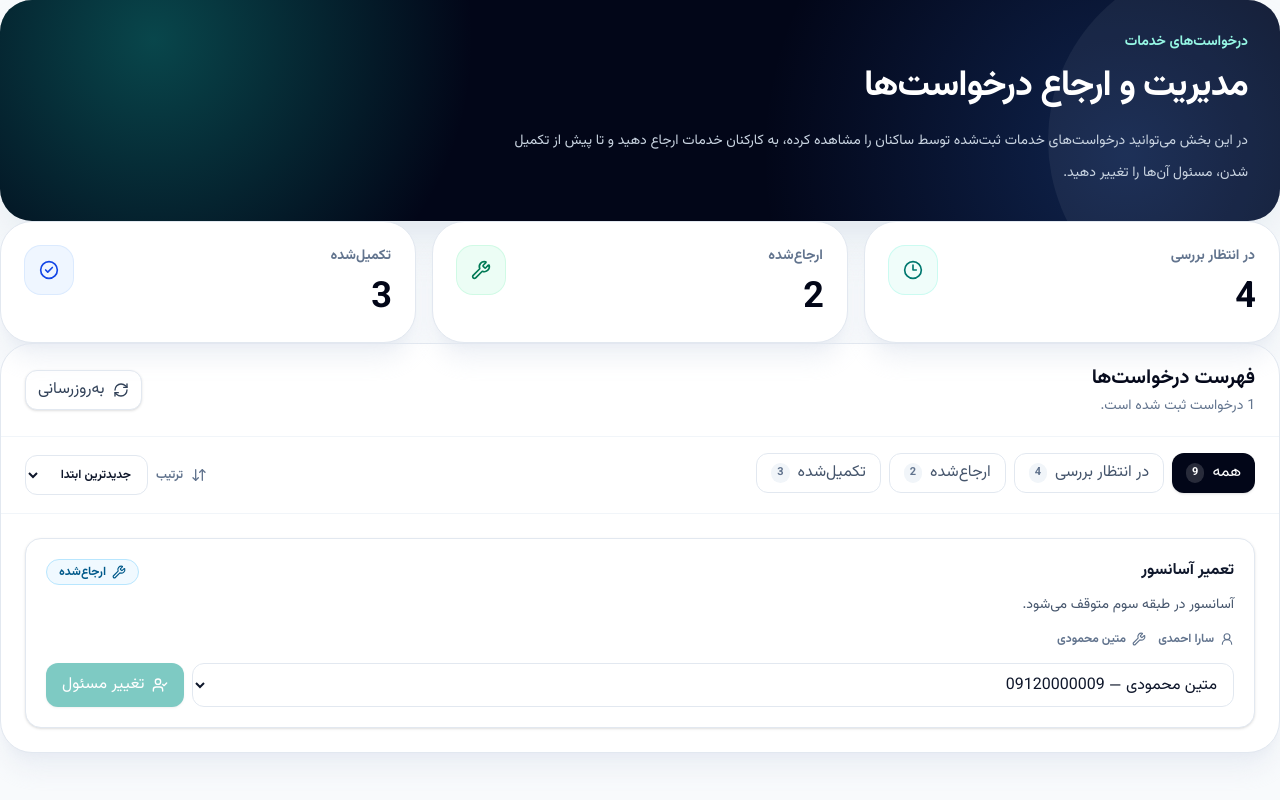
Test case: ServiceRequestsSection › sends the newly chosen staff member and updates the list
This screenshot has width=1280, height=800.
Select "رضا کریمی — 09120000010" in the dropdown named "مسئول درخواست تعمیر آسانسور" at (713,685), box [192, 663, 1234, 707]
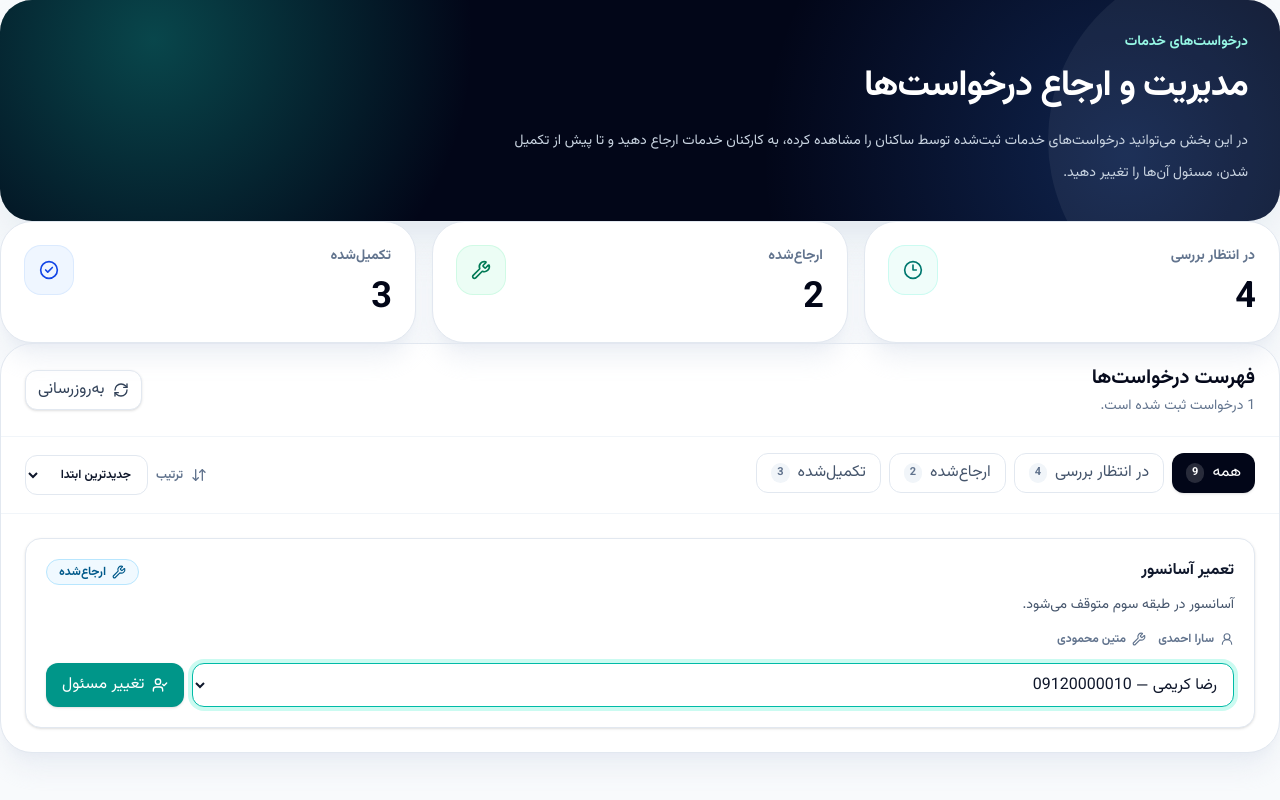
Click the button "تغییر مسئول".
click(115, 685)  # box [46, 663, 184, 707]
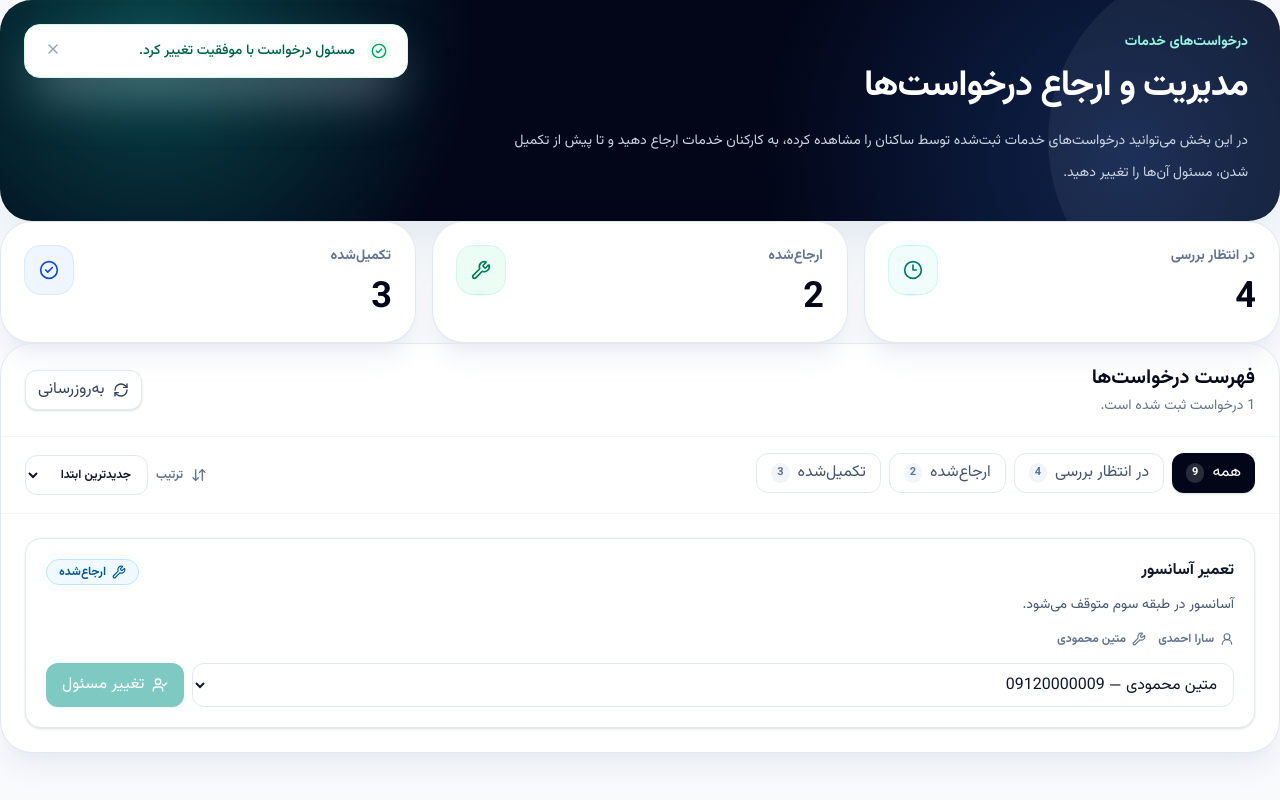
Result: the text "مسئول درخواست با موفقیت تغییر کرد." is shown at [139, 40, 355, 62]
